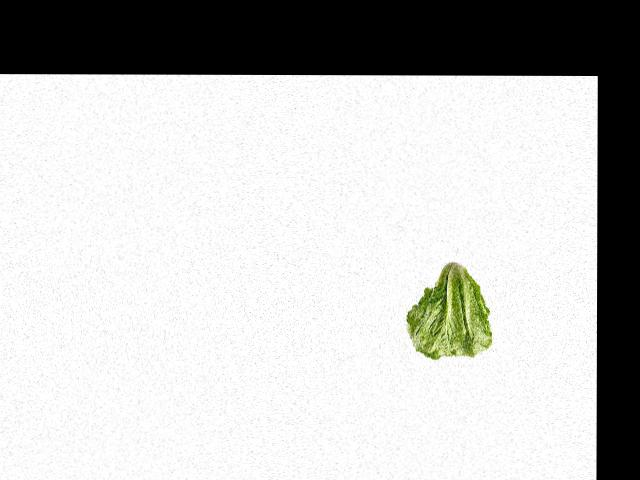lettuce: (403, 257, 489, 361)
